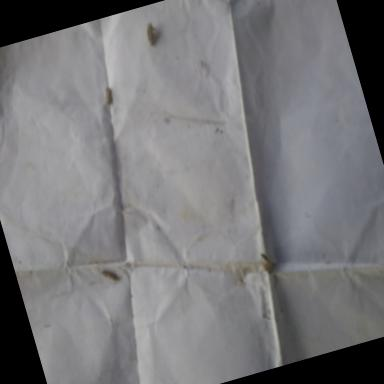pbw: (144, 23, 160, 48), (101, 267, 121, 286), (260, 249, 276, 272), (102, 87, 115, 106)
